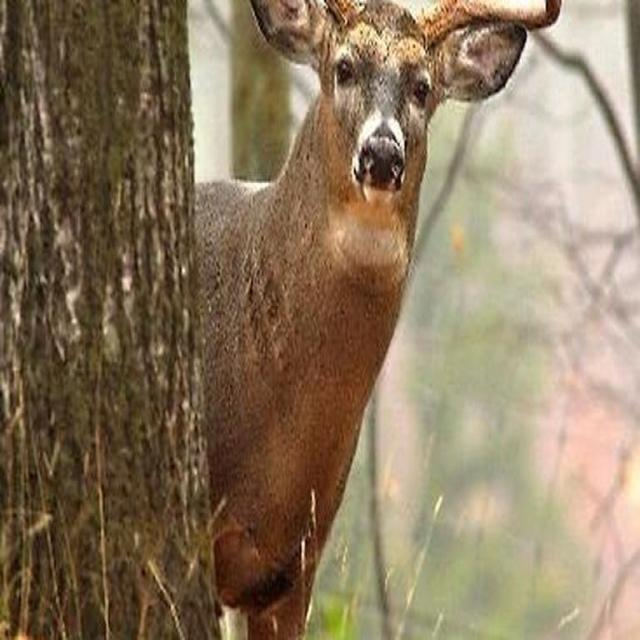Deer: (199, 0, 564, 640)
